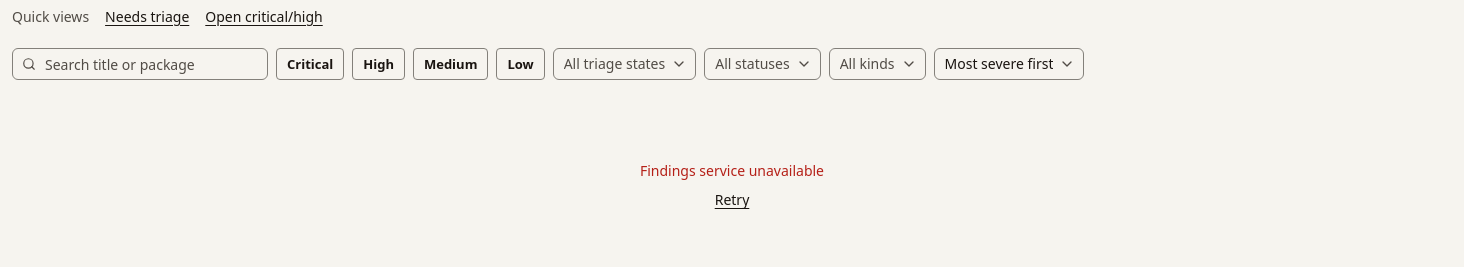
Test: FindingsDashboard › allows retrying a failed findings request
Expected: the text "Findings service unavailable" is shown, [640, 160, 824, 181]
Click the button "Retry" at (732, 200), box [715, 189, 749, 210]
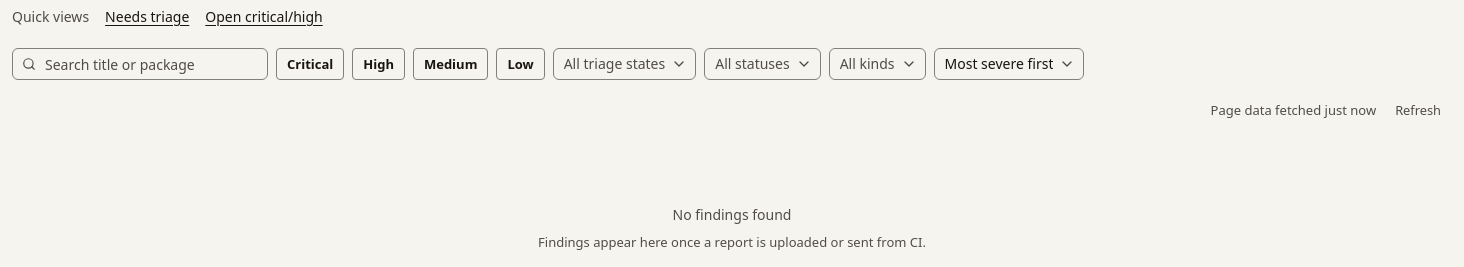
Expected: the text "No findings found" is shown, [673, 204, 792, 225]
